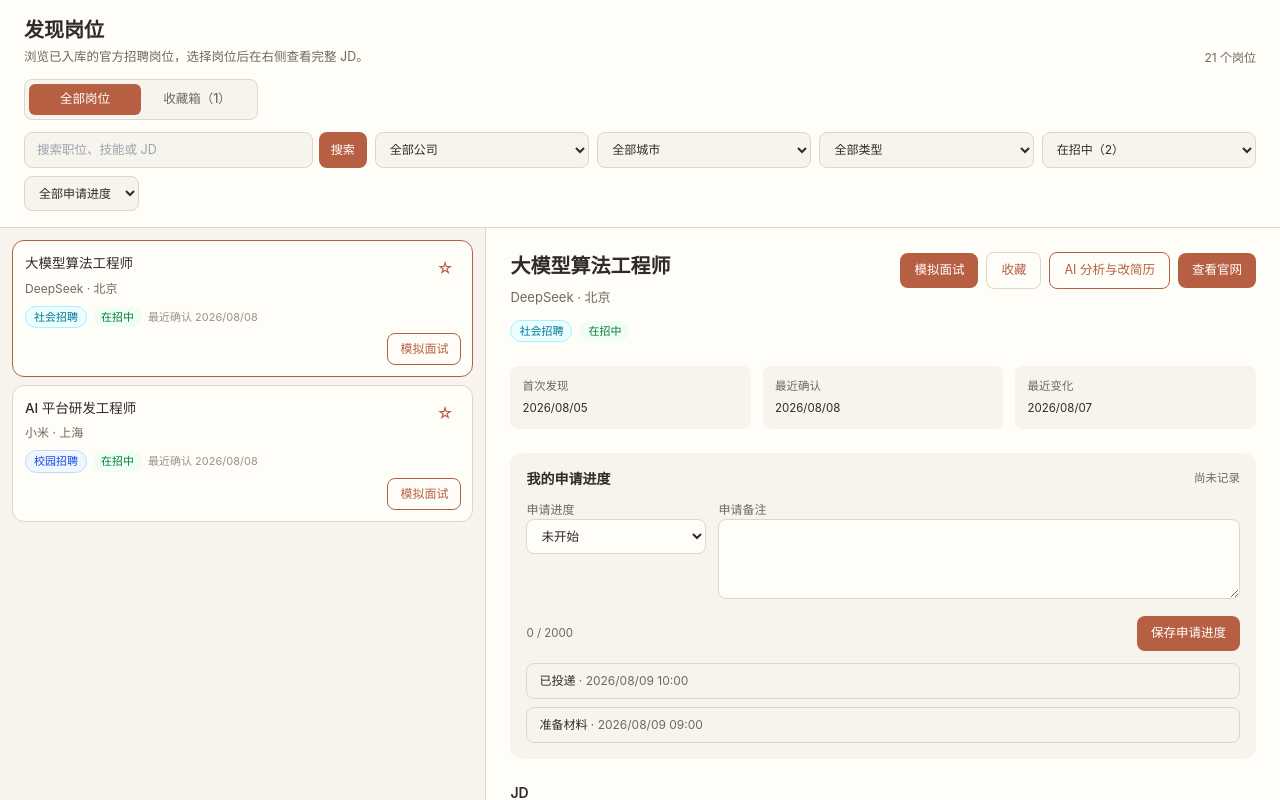
Scenario: CareerJobsView › keeps interview setup open when resume loading fails
Expected: the heading "JD" is shown, x1=510 y1=784 x2=529 y2=799
Click the button with aria-label "从岗位详情模拟面试：大模型算法工程师".
click(940, 271)  # box x1=900 y1=253 x2=978 y2=288
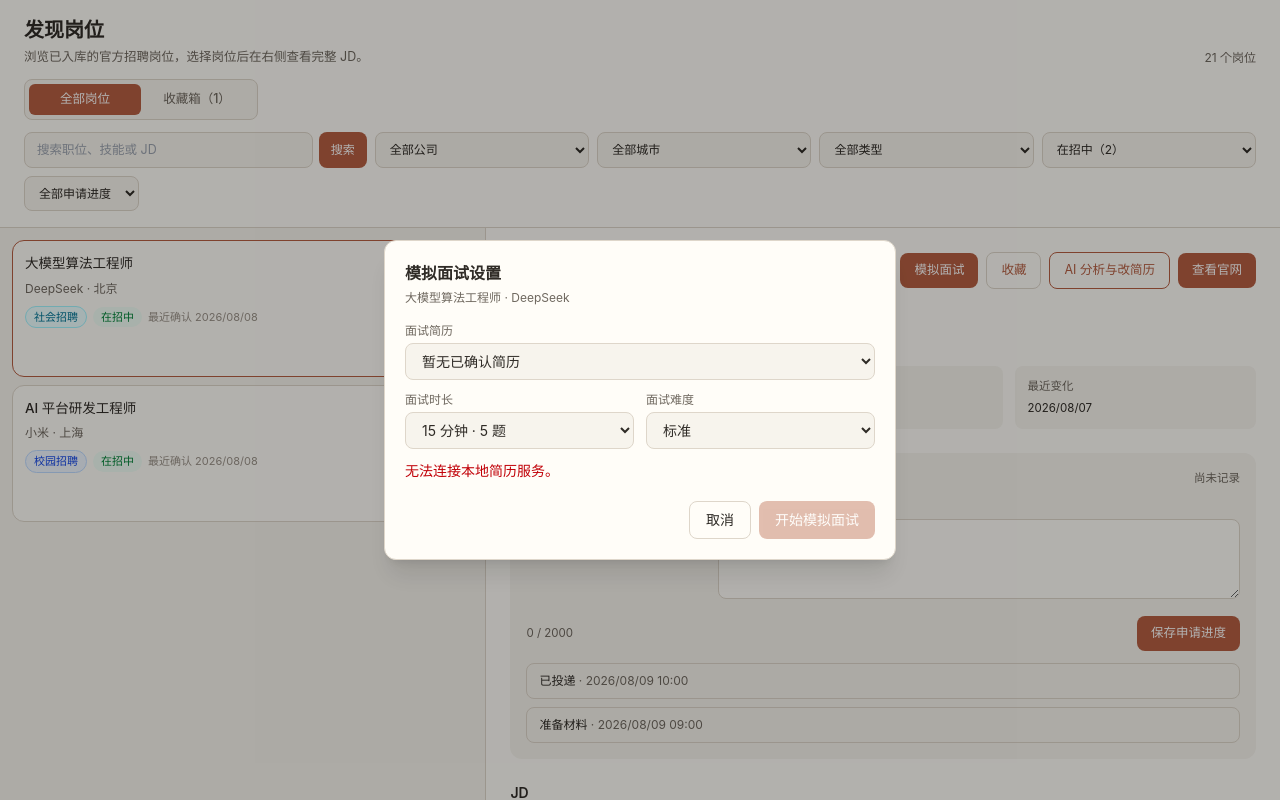
Result: the text "无法连接本地简历服务。" is shown at x1=405 y1=462 x2=559 y2=479
Result: the dialog "模拟面试设置" is shown at x1=384 y1=240 x2=896 y2=560
